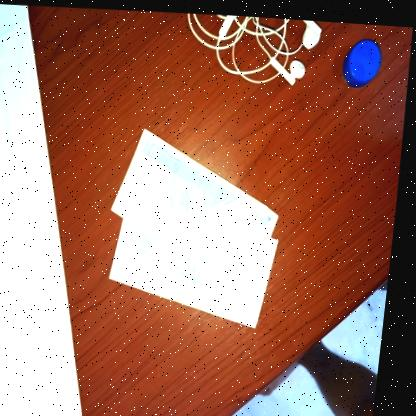ten-back-vef: (106, 121, 292, 298)
two_hundred-back-vef: (109, 212, 287, 328)
